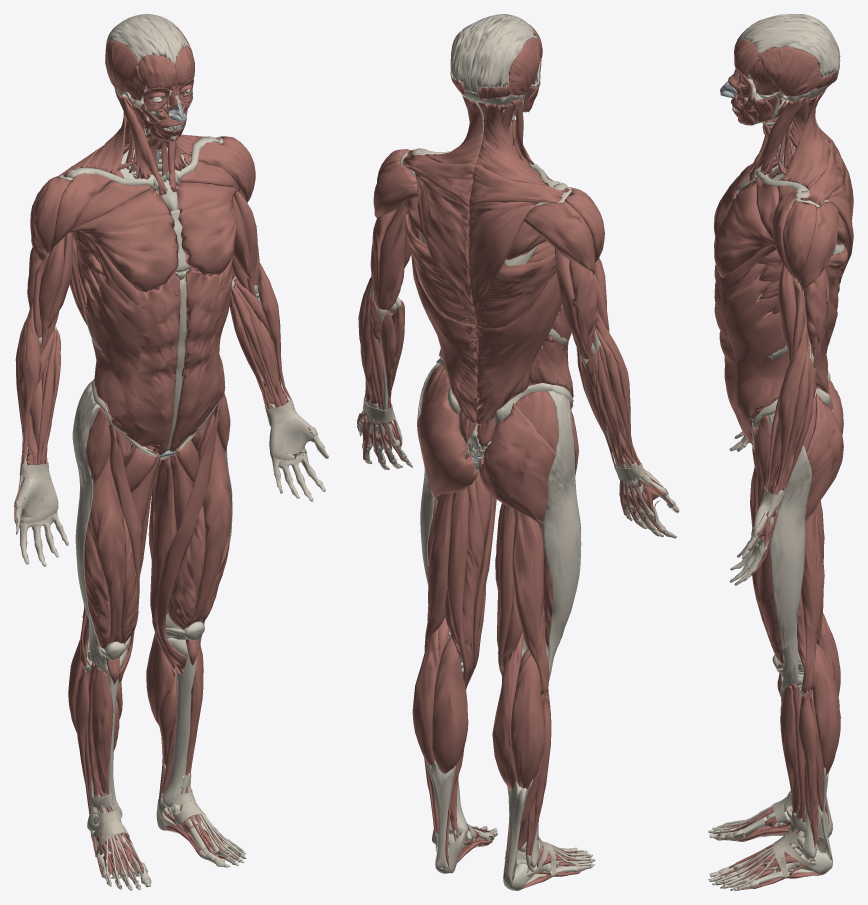
The model's file is body.glb.
3 renders of one model, left to right at view 1: azimuth 30°, elevation 25°; view 2: azimuth 150°, elevation 25°; view 3: azimuth 270°, elevation 25°, orthographic. The views are drawn at different scales.
Parts seen in each view (by area): view 1: quads.L|surface, quads.R|surface, chest.R|surface, head|surface, abs.R|surface, obliques.R|surface, abs.L|surface, chest.L|surface, it-band.R|surface, shin.R|surface, adductors.L|surface, shoulder.R|surface (+36 smaller); view 2: glutes.R|surface, hamstrings.L|surface, head|surface, mid-back.L|surface, it-band.R|surface, mid-back.R|surface, hamstrings.R|surface, calf.L|surface, calf.R|surface, lats.R|surface, lower-back.R|surface, glutes.L|surface (+33 smaller); view 3: head|surface, obliques.L|surface, it-band.L|surface, shoulder.L|surface, chest.L|surface, shin.L|surface, neck.L|surface, glutes.L|surface, forearm-back.L|surface, hamstrings.L|surface, calf.L|surface, knee.L|surface (+31 smaller).
Part boxes in pixels (x1=…): quads.L|surface: x1=156, y1=396, x2=231, y2=674; quads.R|surface: x1=84, y1=421, x2=142, y2=690; chest.R|surface: x1=69, y1=181, x2=178, y2=305; head|surface: x1=105, y1=14, x2=194, y2=141; abs.R|surface: x1=128, y1=271, x2=183, y2=454; obliques.R|surface: x1=86, y1=258, x2=156, y2=456; abs.L|surface: x1=167, y1=267, x2=223, y2=451; chest.L|surface: x1=176, y1=160, x2=241, y2=283; it-band.R|surface: x1=72, y1=379, x2=110, y2=674; shin.R|surface: x1=75, y1=666, x2=113, y2=805; adductors.L|surface: x1=150, y1=438, x2=199, y2=677; shoulder.R|surface: x1=30, y1=172, x2=112, y2=260; glutes.R|surface: x1=478, y1=391, x2=558, y2=526; hamstrings.L|surface: x1=427, y1=480, x2=483, y2=685; head|surface: x1=450, y1=14, x2=542, y2=112; mid-back.L|surface: x1=402, y1=150, x2=476, y2=328; it-band.R|surface: x1=542, y1=391, x2=581, y2=641; mid-back.R|surface: x1=468, y1=164, x2=569, y2=327; hamstrings.R|surface: x1=495, y1=503, x2=548, y2=698; calf.L|surface: x1=412, y1=661, x2=468, y2=832; calf.R|surface: x1=492, y1=685, x2=544, y2=847; lats.R|surface: x1=477, y1=252, x2=561, y2=334; lower-back.R|surface: x1=475, y1=324, x2=550, y2=447; glutes.L|surface: x1=417, y1=365, x2=484, y2=501; head|surface: x1=728, y1=14, x2=840, y2=125; obliques.L|surface: x1=720, y1=263, x2=789, y2=449; it-band.L|surface: x1=756, y1=412, x2=811, y2=689; shoulder.L|surface: x1=771, y1=185, x2=838, y2=292; chest.L|surface: x1=714, y1=176, x2=778, y2=293; shin.L|surface: x1=780, y1=688, x2=818, y2=834; neck.L|surface: x1=748, y1=88, x2=826, y2=182; glutes.L|surface: x1=803, y1=393, x2=843, y2=521; forearm-back.L|surface: x1=775, y1=316, x2=814, y2=489; hamstrings.L|surface: x1=797, y1=506, x2=824, y2=693; calf.L|surface: x1=810, y1=669, x2=840, y2=811; knee.L|surface: x1=769, y1=627, x2=830, y2=688.
Size of the model in its own units: 0.6707 by 1.7 by 0.267.
